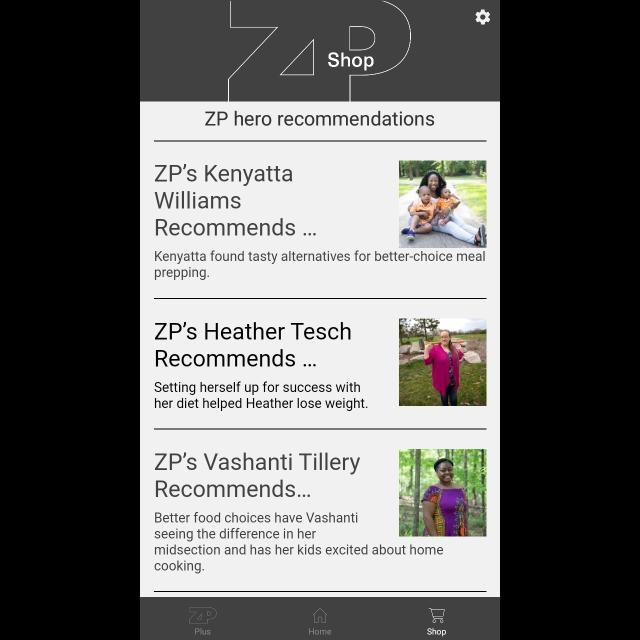icon: (312, 608, 328, 624), (476, 10, 490, 26), (428, 608, 444, 622)
image: (229, 0, 411, 101), (398, 449, 486, 536), (399, 318, 486, 406), (399, 162, 486, 248), (189, 608, 217, 624)
text: (155, 164, 317, 236), (155, 251, 485, 281), (156, 452, 360, 498), (154, 544, 443, 574), (155, 322, 351, 366), (154, 381, 368, 411), (154, 512, 358, 542), (205, 110, 435, 126), (328, 52, 374, 72), (308, 628, 332, 636), (426, 628, 446, 636), (195, 628, 211, 636)
